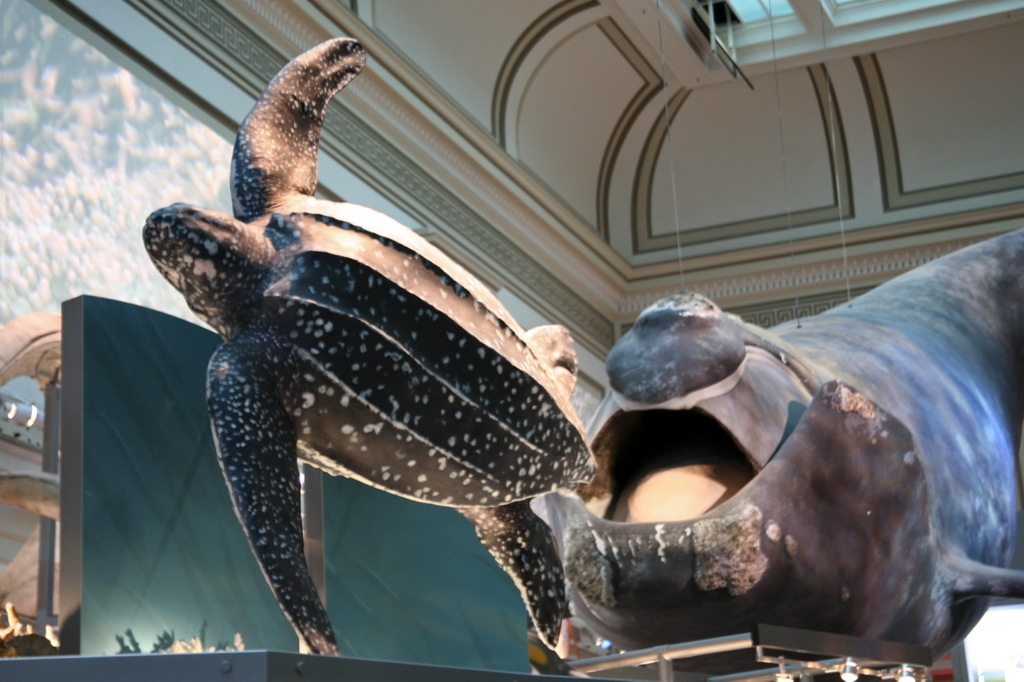Sea turtles: (132, 34, 598, 662)
